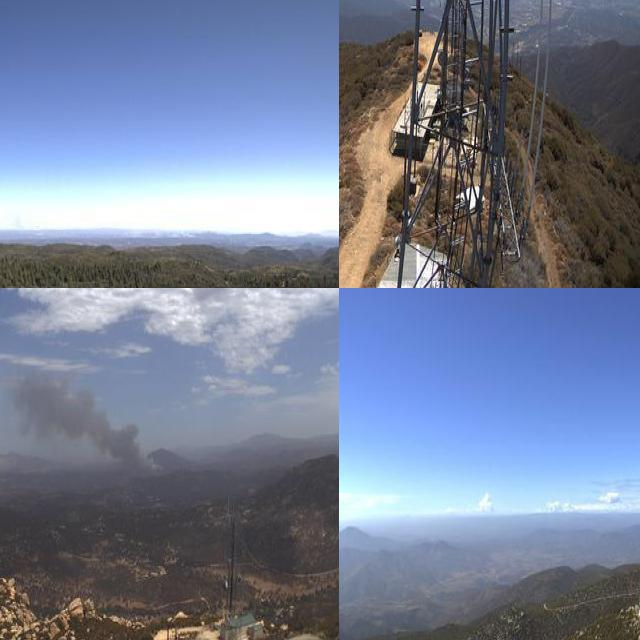smoke: (3, 361, 171, 494), (9, 215, 25, 242)
